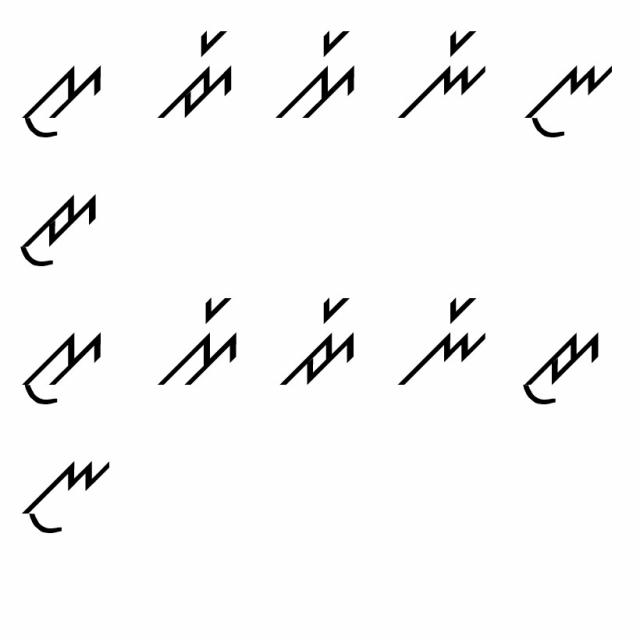jar: (146, 26, 247, 124), (274, 292, 360, 398)
jaw: (516, 316, 605, 410), (13, 183, 103, 270)
nyar: (391, 284, 491, 393), (391, 25, 496, 123)
nyaw: (16, 445, 116, 537), (518, 54, 615, 142)
sar: (157, 292, 246, 395), (276, 27, 368, 122)
saw: (15, 54, 113, 144), (15, 326, 109, 408)
